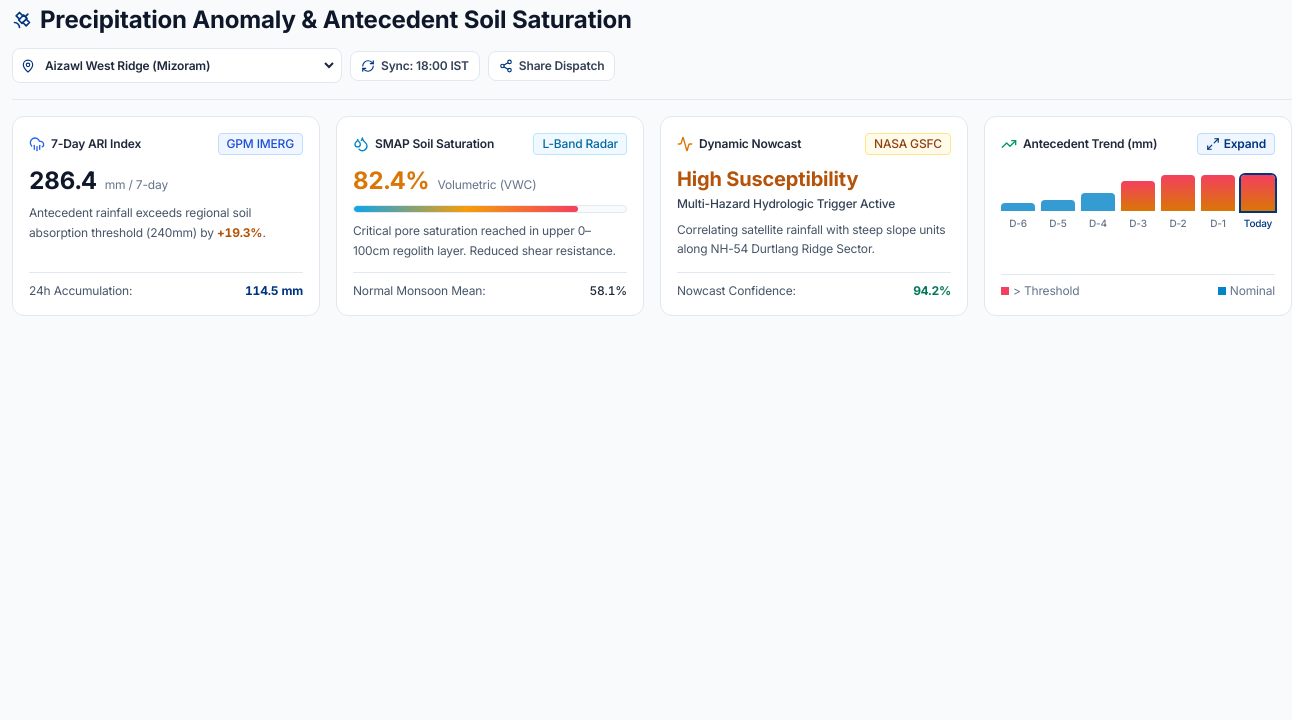
Test: Sentinel NER — Government Standard Landslide Intelligence Platform › renders NasaLhasaHydrology with GPM IMERG 7-day ARI, SMAP soil moisture, and expandable graph
The image size is (1292, 720).
Expected: the text "7-Day ARI Index" is shown, [51,136,141,152]
Expected: the text "286.4" is shown, [29,165,97,197]
// Expand graph
Step 1. Click the button "Expand" → (1236, 144), box [1197,133,1275,155]
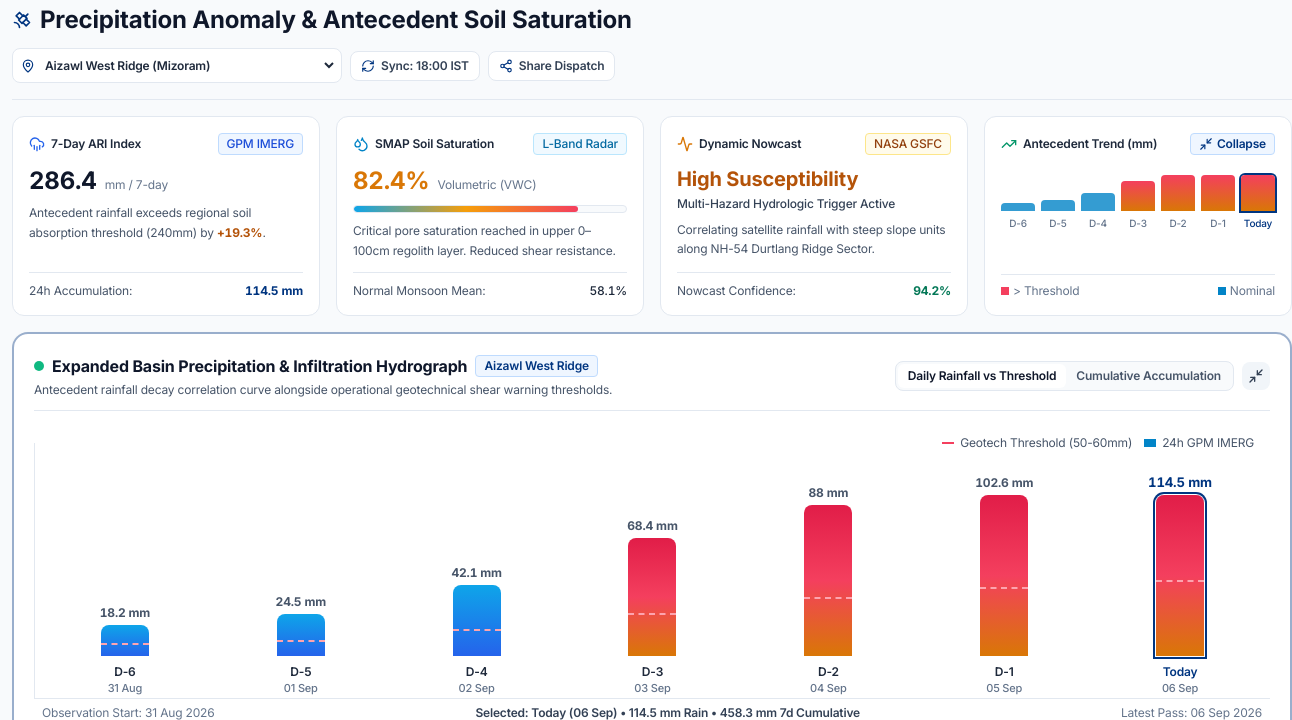
Now the heading "Expanded Basin Precipitation & Infiltration Hydrograph" is shown, box [52,354,467,378]
Now the button "Daily Rainfall vs Threshold" is shown, box [898,364,1066,388]
Now the button "Cumulative Accumulation" is shown, box [1066,364,1231,388]
// Collapse graph
Step 2. Click the button "Collapse" → (1232, 144), box [1190,133,1275,155]
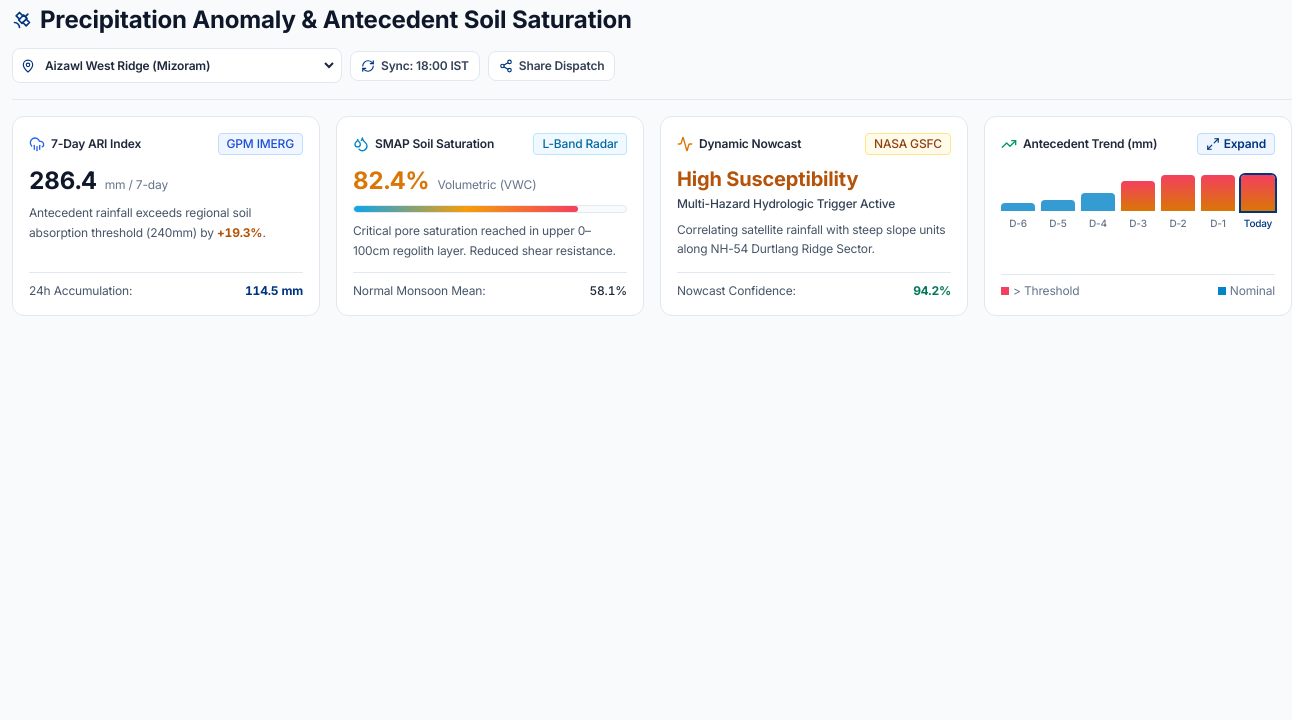
Step 3. Select "Kolasib NH-306 Corridor (Mizoram)" in the dropdown named "Select Basin Scope" → (189, 66), box [41,53,337,78]
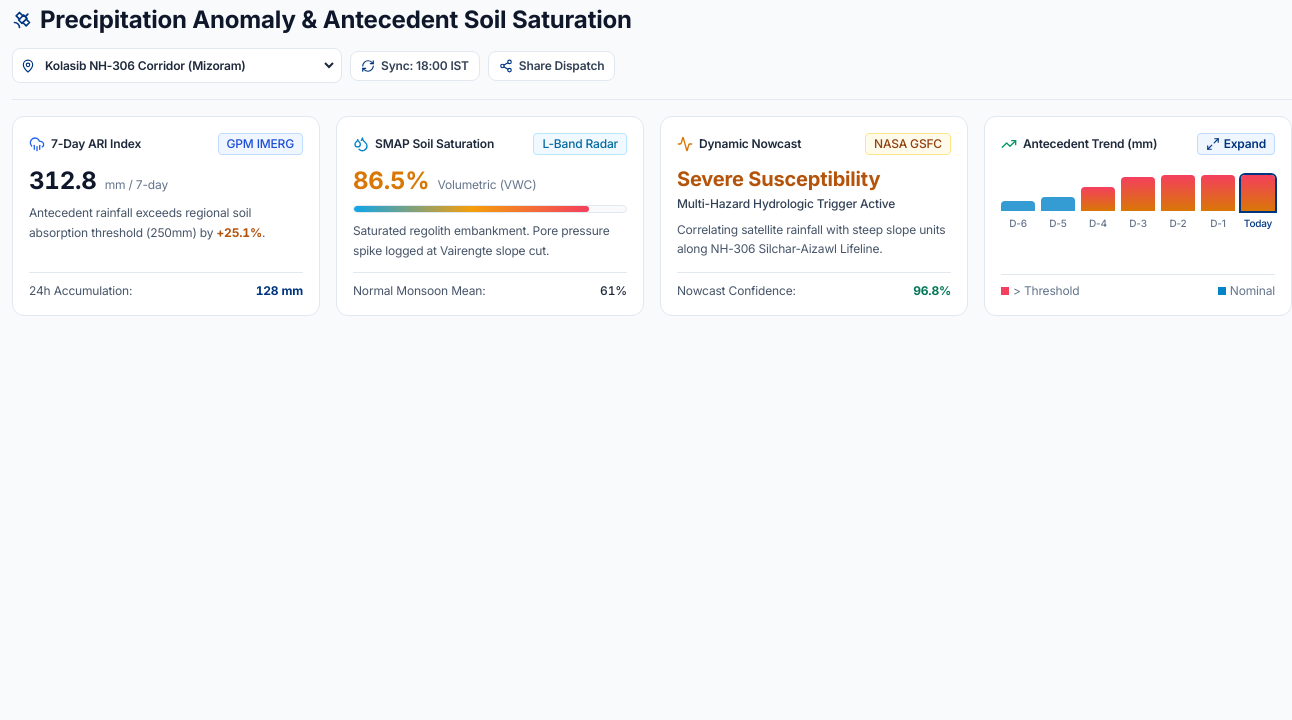
Now the text "312.8" is shown, box [29,165,97,197]
Now the text "86.5%" is shown, box [353,165,430,197]
Step 4. Click the button "Share Dispatch" → (552, 66), box [488,50,615,80]
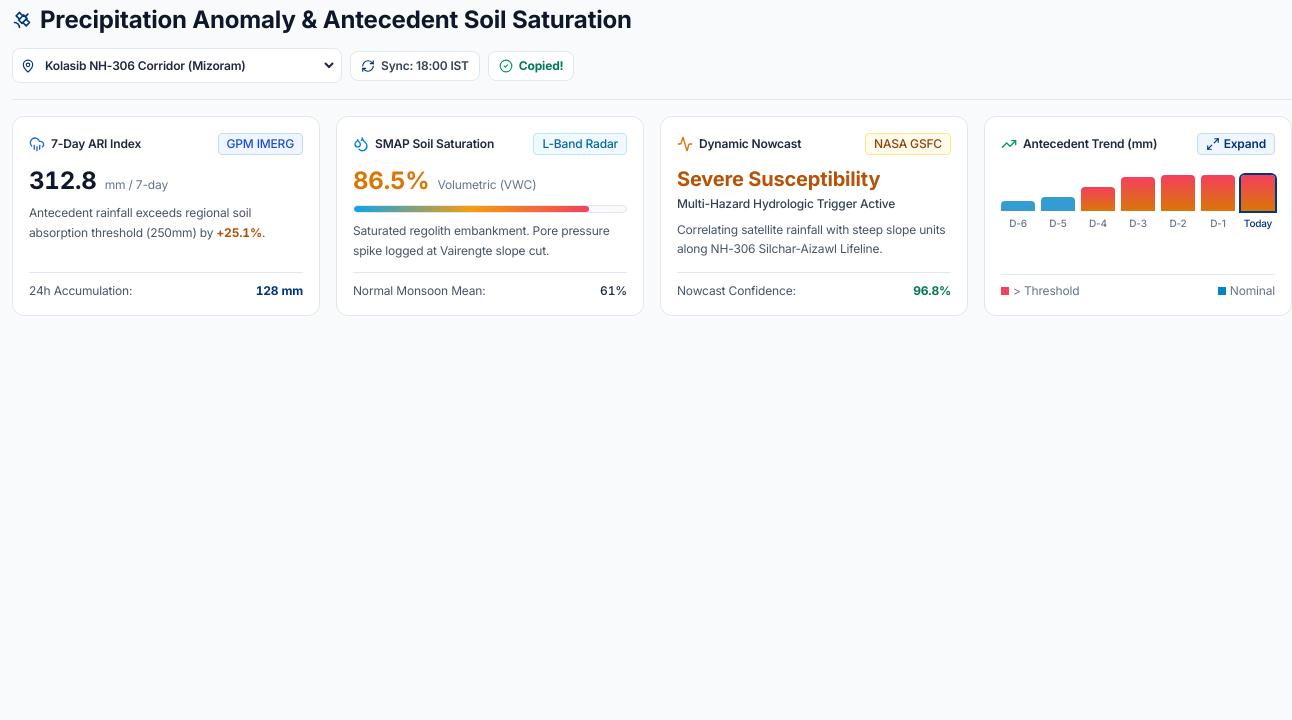
Now the text "Copied!" is shown, box [519,58,563,74]
